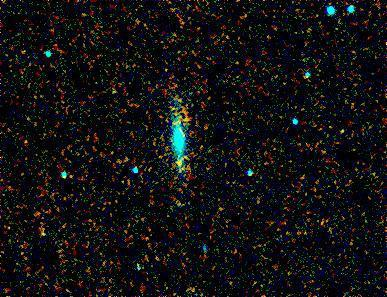star: (162, 147, 192, 177)
